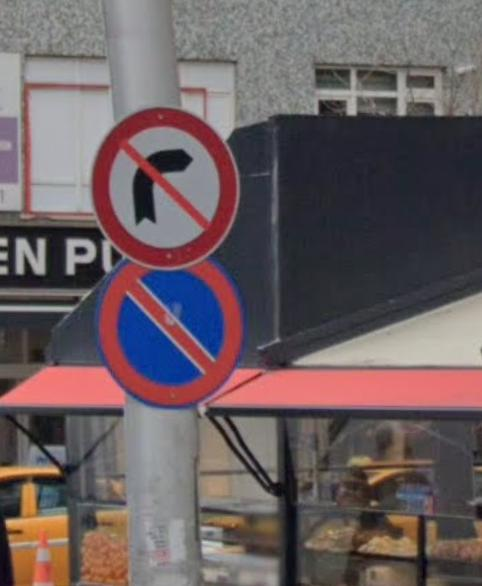nopark: (95, 265, 250, 409)
rightturnsareforbidden: (88, 104, 237, 269)
